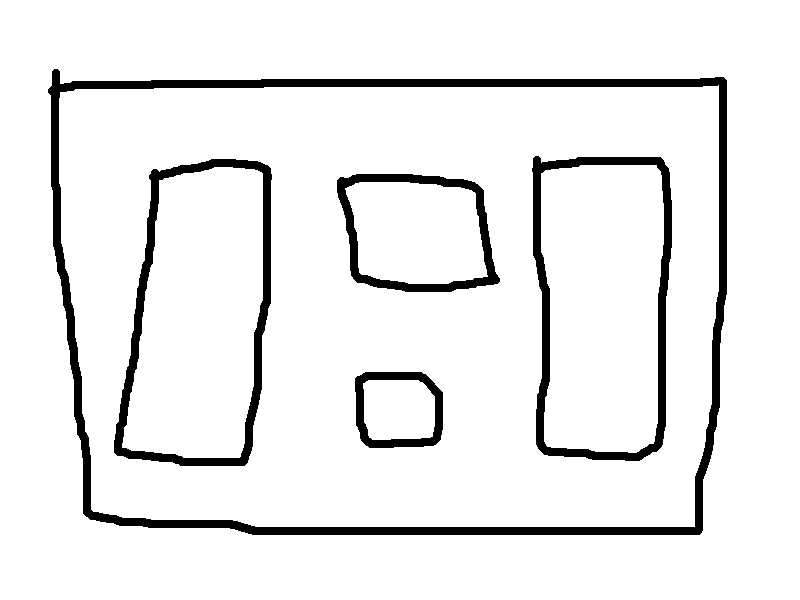rect: (44, 65, 734, 542), (110, 152, 278, 473), (526, 149, 678, 466), (331, 167, 506, 296), (351, 367, 449, 450)
